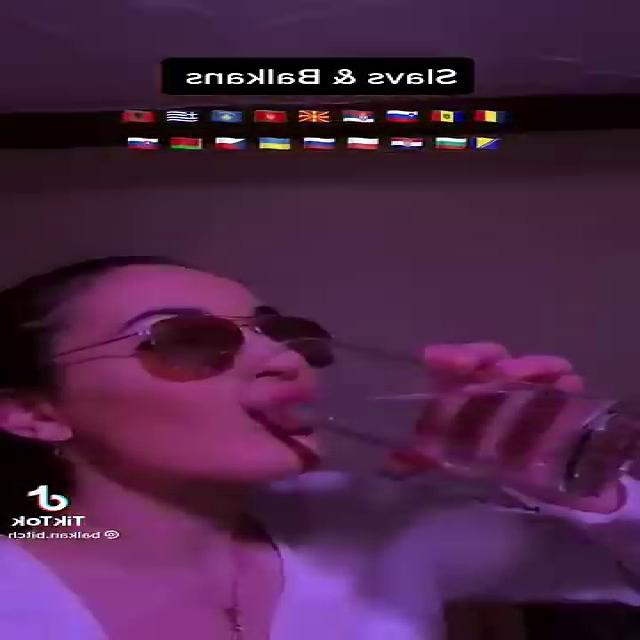Cup: (237, 339, 640, 498)
Hand: (373, 336, 609, 510)
Mouth: (231, 391, 325, 438)
